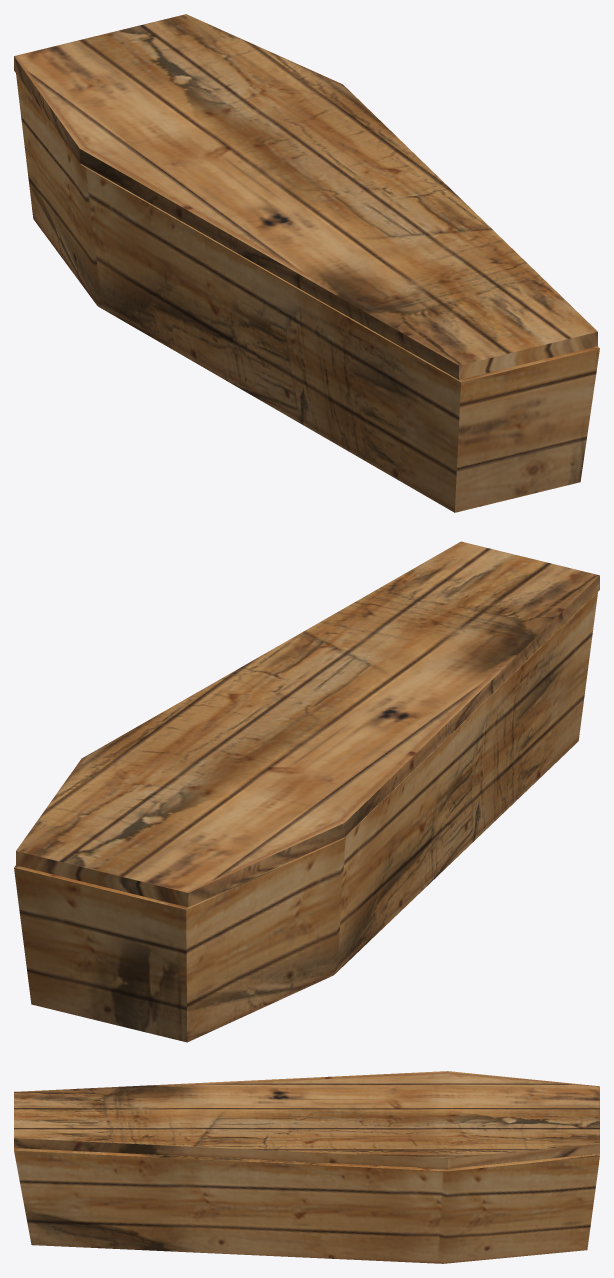
The model's file is coffin.FBX.
3 views of the same model, one above another, from view 1: azimuth 30°, elevation 25°; view 2: azimuth 150°, elevation 25°; view 3: azimuth 270°, elevation 25° (orthographic). The views are drawn at different scales.
Visible parts, largest first — view 1: coffin_cover, coffin; view 2: coffin_cover, coffin; view 3: coffin, coffin_cover.
Part boxes in pixels (x1,y1,x2,y2): coffin_cover: (14, 14, 597, 379); coffin: (16, 74, 599, 512); coffin_cover: (16, 541, 599, 907); coffin: (14, 592, 597, 1042); coffin: (14, 1148, 599, 1263); coffin_cover: (14, 1071, 599, 1168).
Bounding box in the file's own units: 39.92 × 22.82 × 112.
